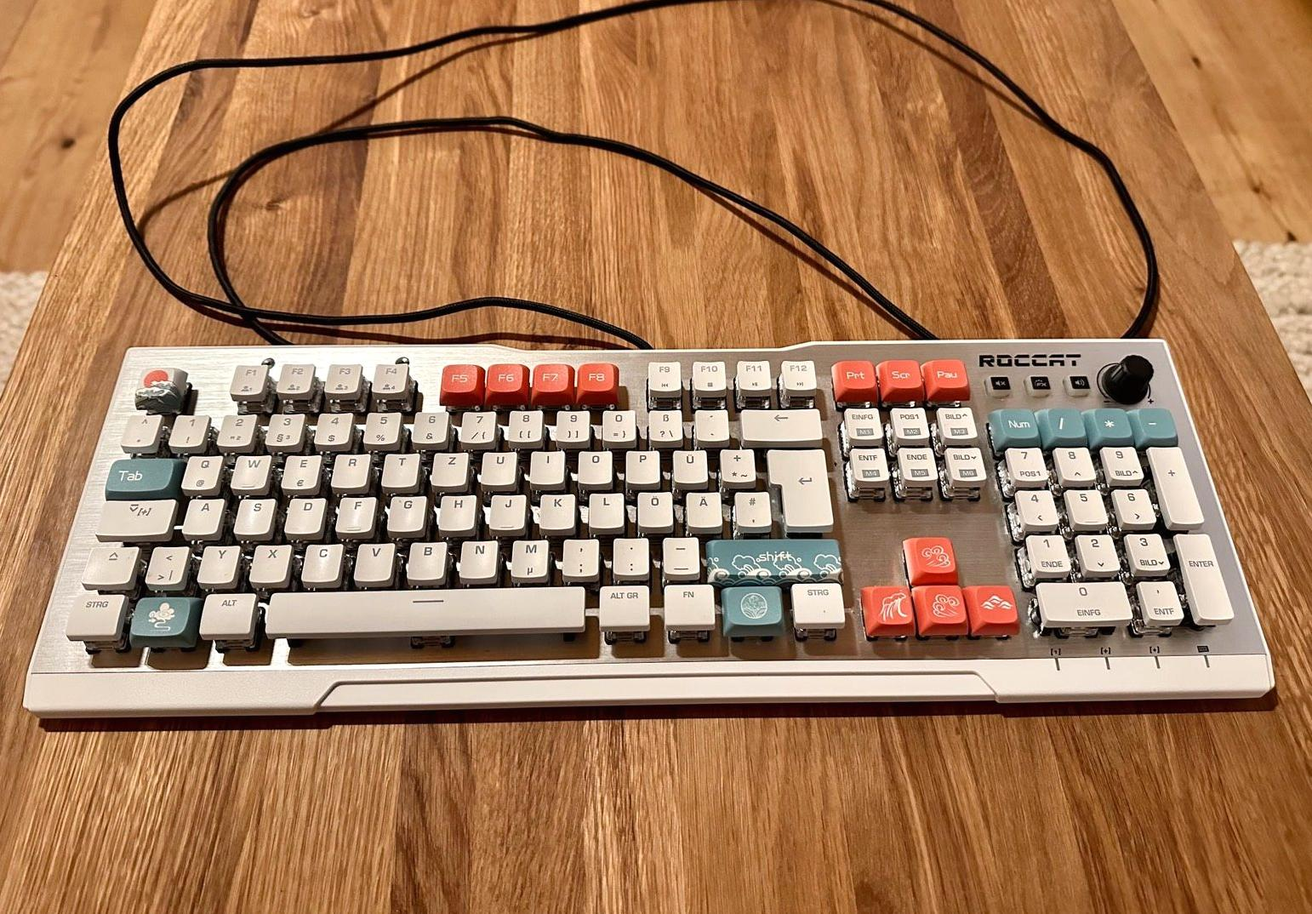0: (598, 407, 636, 441)
1: (167, 411, 208, 446)
2: (214, 412, 255, 446)
3: (262, 410, 304, 445)
4: (311, 409, 351, 444)
5: (361, 408, 400, 444)
6: (408, 407, 448, 443)
7: (457, 408, 495, 443)
8: (503, 406, 543, 442)
9: (550, 407, 590, 442)
a: (180, 495, 223, 534)
accent: (692, 407, 727, 440)
ae: (683, 488, 722, 526)
alt-left: (196, 589, 255, 636)
altgr-right: (594, 581, 650, 626)
b: (403, 537, 447, 579)
c: (298, 539, 343, 580)
caret: (119, 410, 160, 446)
comma: (558, 535, 599, 576)
d: (282, 494, 325, 533)
del: (739, 406, 820, 439)
e: (278, 451, 320, 488)
enter: (764, 444, 832, 528)
f: (334, 493, 375, 531)
g: (384, 492, 425, 530)
h: (435, 491, 476, 528)
hash: (732, 488, 770, 527)
i: (527, 448, 564, 482)
j: (485, 490, 525, 528)
k: (534, 490, 574, 528)
keyboard: (20, 335, 1278, 729)
l: (585, 488, 623, 527)
less: (142, 542, 189, 586)
m: (506, 536, 549, 577)
minus: (659, 534, 699, 573)
n: (456, 536, 498, 576)
o: (573, 448, 612, 482)
oe: (635, 488, 672, 526)
p: (623, 447, 659, 482)
plus: (717, 445, 755, 482)
point: (610, 534, 648, 574)
q: (178, 452, 222, 490)
r: (328, 450, 369, 486)
s: (231, 494, 274, 534)
shift-left: (79, 541, 137, 583)
shift-lock: (95, 496, 176, 534)
shift-right: (702, 534, 841, 576)
space: (260, 584, 587, 636)
ss: (645, 407, 682, 442)
strg-left: (63, 590, 126, 635)
strg-right: (789, 579, 846, 625)
t: (379, 449, 418, 485)
tab: (103, 455, 173, 490)
u: (477, 448, 516, 483)
ue: (670, 447, 707, 483)
v: (351, 539, 394, 580)
w: (228, 451, 270, 488)
x: (247, 540, 290, 581)
y: (195, 541, 238, 583)
z: (429, 448, 468, 484)
